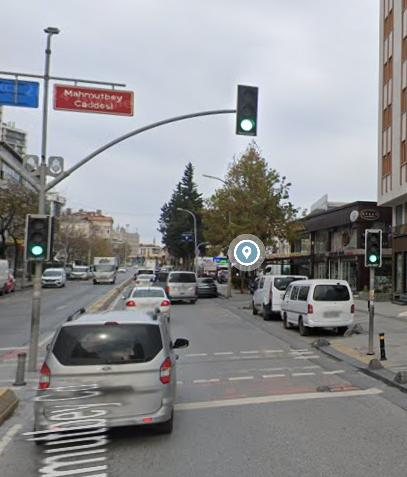greenlight: (25, 213, 49, 260), (236, 83, 259, 132)
